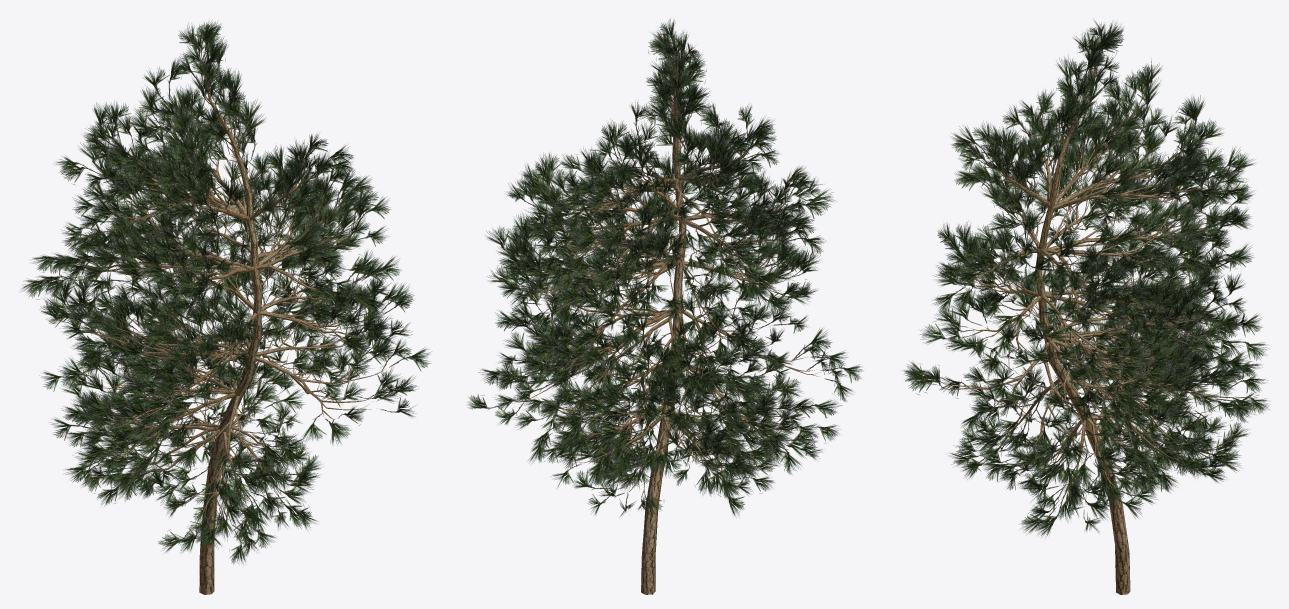
3 views of the same model, side by side, from view 1: azimuth 30°, elevation 25°; view 2: azimuth 150°, elevation 25°; view 3: azimuth 270°, elevation 25° (orthographic). The views are drawn at different scales.
Visible parts, largest first — view 1: Tree_Pinus-ponderosa_D_spring-summer-autumn.001_Leaf_Pinus-p, Tree_Pinus-ponderosa_D_spring-summer-autumn.001_Bark_Pinus-p; view 2: Tree_Pinus-ponderosa_D_spring-summer-autumn.001_Leaf_Pinus-p, Tree_Pinus-ponderosa_D_spring-summer-autumn.001_Bark_Pinus-p; view 3: Tree_Pinus-ponderosa_D_spring-summer-autumn.001_Leaf_Pinus-p, Tree_Pinus-ponderosa_D_spring-summer-autumn.001_Bark_Pinus-p.
Part boxes in pixels (box(x1,y1,x2,y2)): Tree_Pinus-ponderosa_D_spring-summer-autumn.001_Leaf_Pinus-p: box(22, 20, 430, 564); Tree_Pinus-ponderosa_D_spring-summer-autumn.001_Bark_Pinus-p: box(67, 60, 384, 594); Tree_Pinus-ponderosa_D_spring-summer-autumn.001_Leaf_Pinus-p: box(467, 18, 862, 519); Tree_Pinus-ponderosa_D_spring-summer-autumn.001_Bark_Pinus-p: box(512, 60, 818, 594); Tree_Pinus-ponderosa_D_spring-summer-autumn.001_Leaf_Pinus-p: box(904, 20, 1270, 537); Tree_Pinus-ponderosa_D_spring-summer-autumn.001_Bark_Pinus-p: box(943, 63, 1229, 594).
Size of the model in its own units: 5.87 by 8.97 by 5.38.
2 materials, 2 textured.
